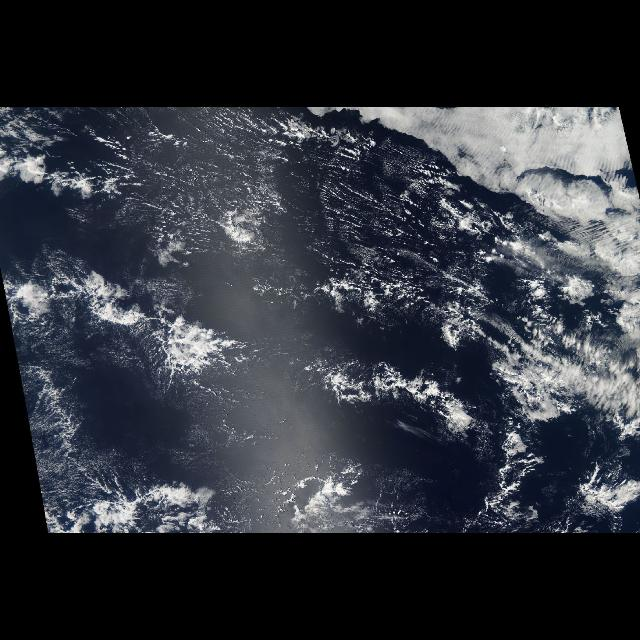Fish: (8, 261, 250, 533), (296, 328, 640, 444)
Gravel: (0, 107, 296, 249), (316, 180, 456, 280)
Sugar: (1, 108, 639, 328), (18, 360, 106, 490)
